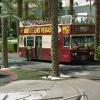Bus: (15, 19, 95, 74)
